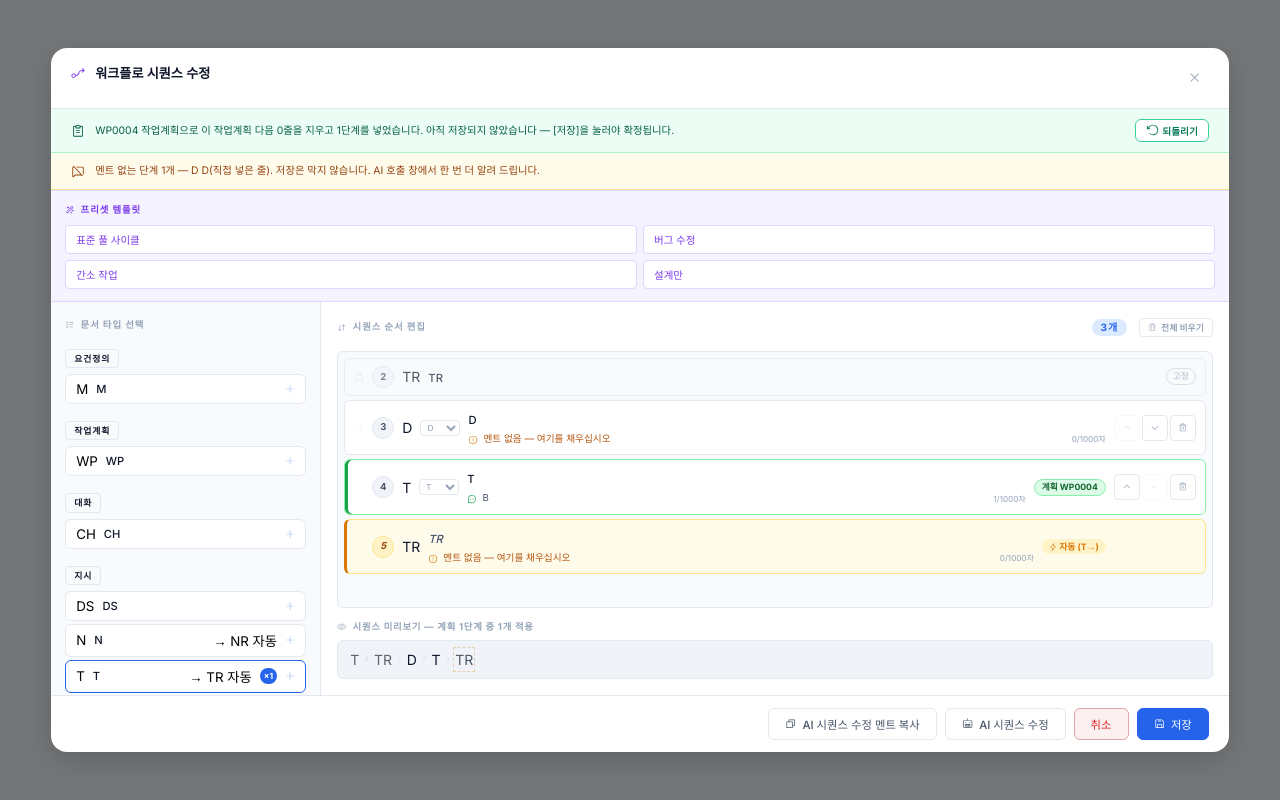
붓기 창 — 카드 순서 계약 (NR0003 O0/O2/O5) › 저장 409 plan_order_violation 이면 사유와 함께 저장을 끈다
This screenshot has width=1280, height=800.
Click the button "저장": (1173, 724) x1=1136 y1=708 x2=1209 y2=740
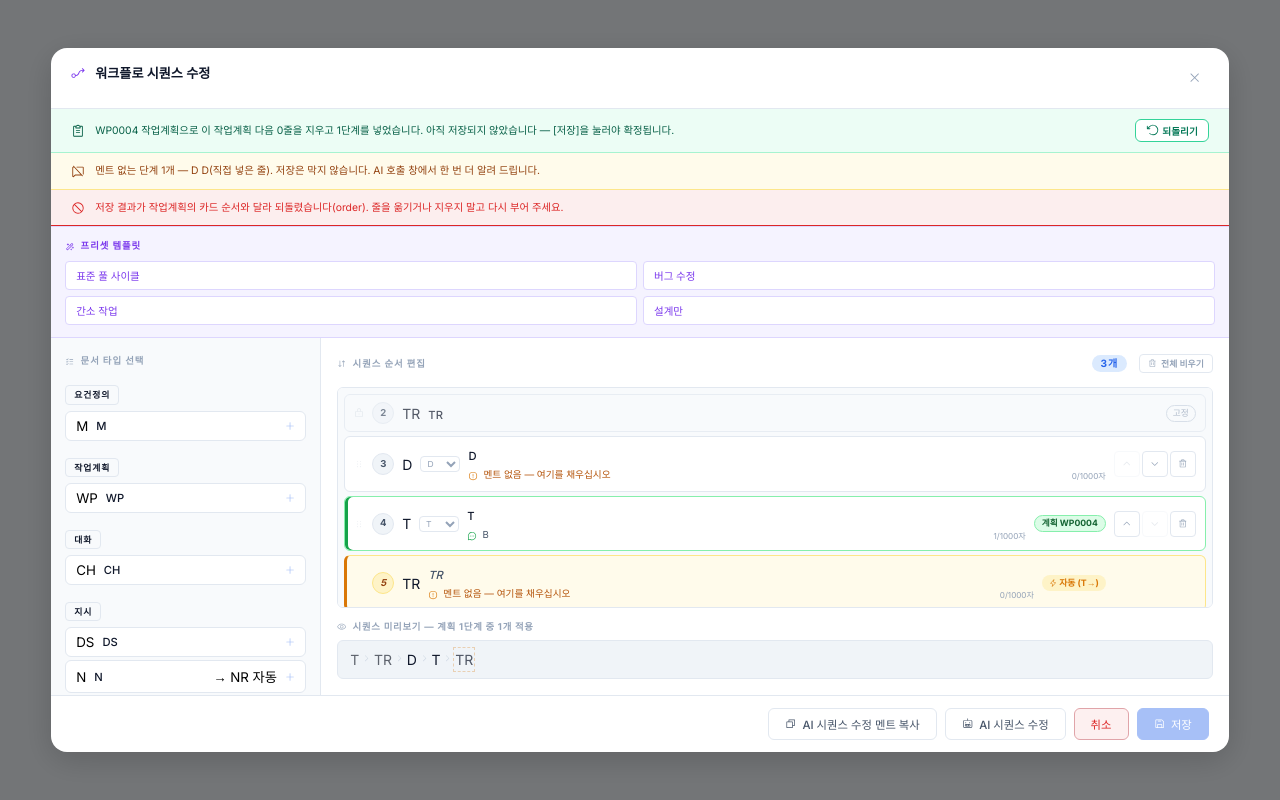
Result: the button "저장" is disabled at x1=1136 y1=708 x2=1209 y2=740
